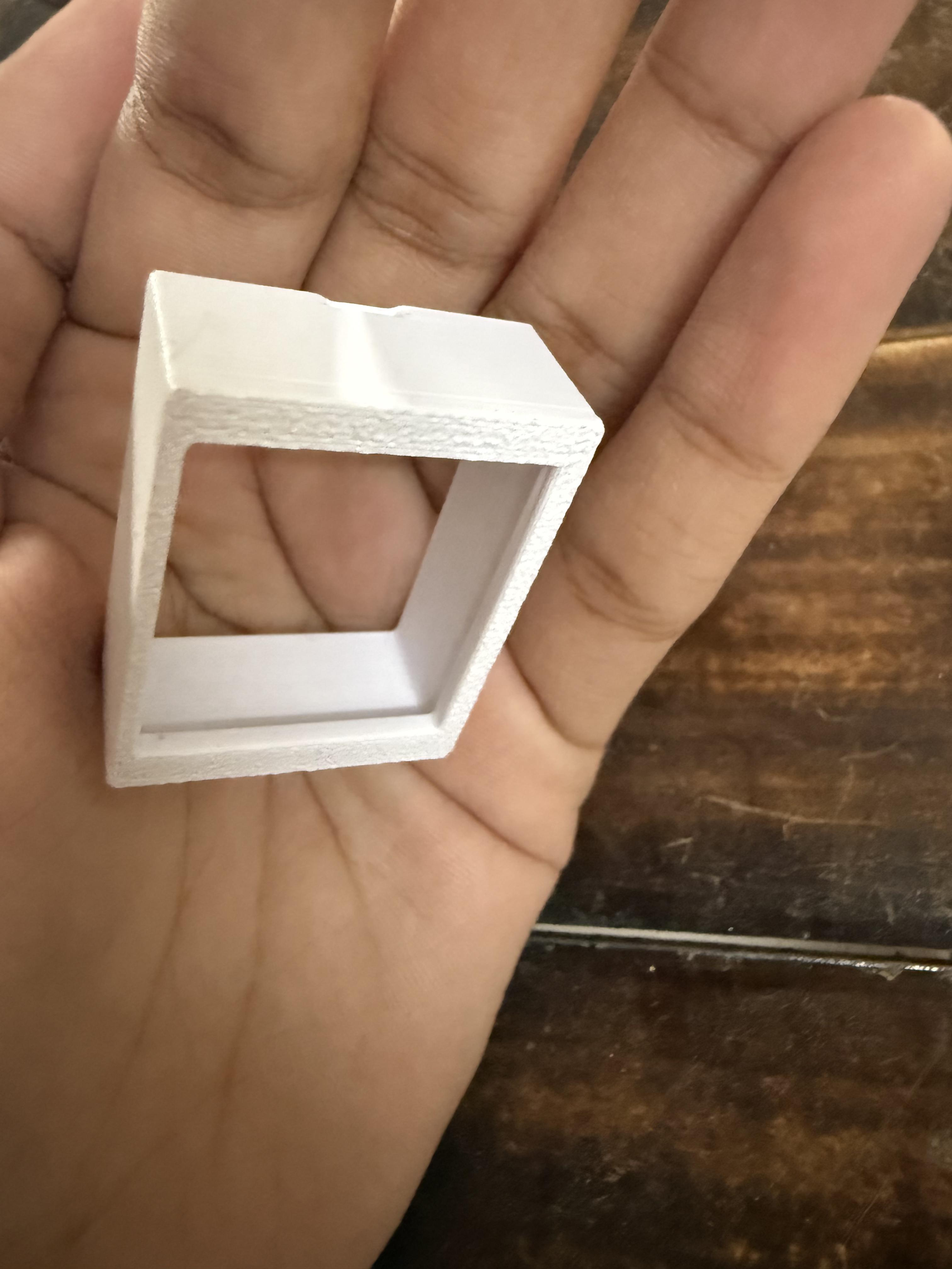enclosure: (101, 269, 605, 788)
